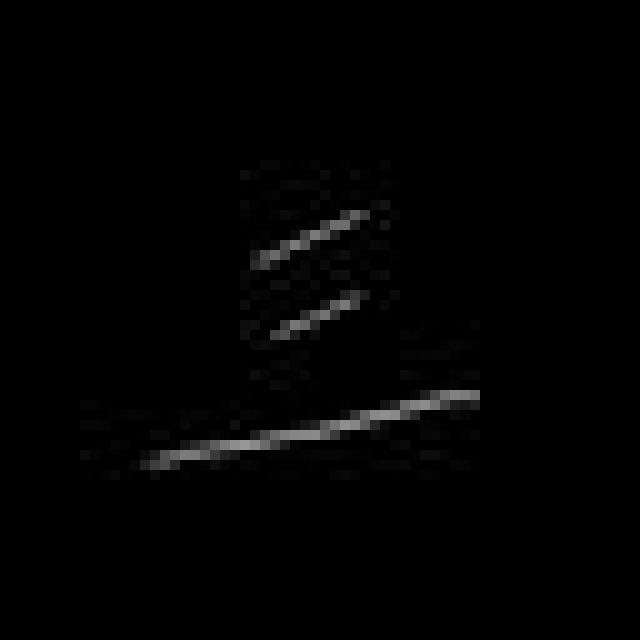3 -three-: (128, 190, 492, 497)
